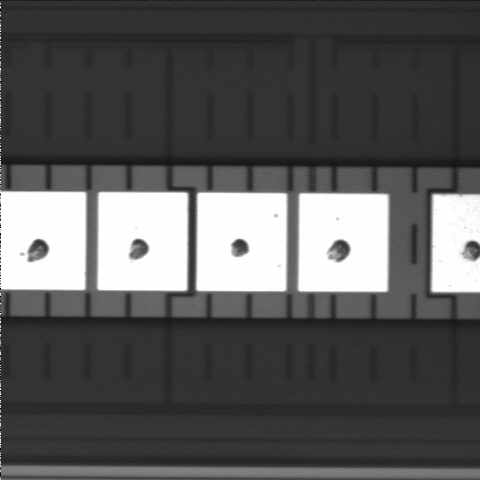pad: (196, 193, 287, 291), (98, 192, 188, 291), (298, 193, 388, 292)
